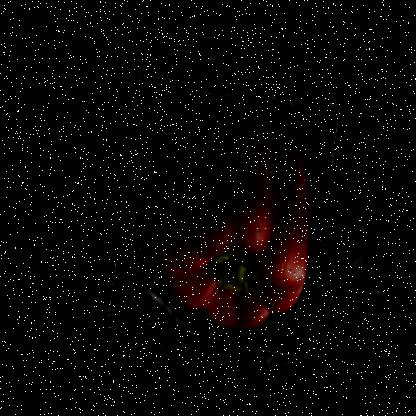capsicum: (94, 74, 345, 363)
